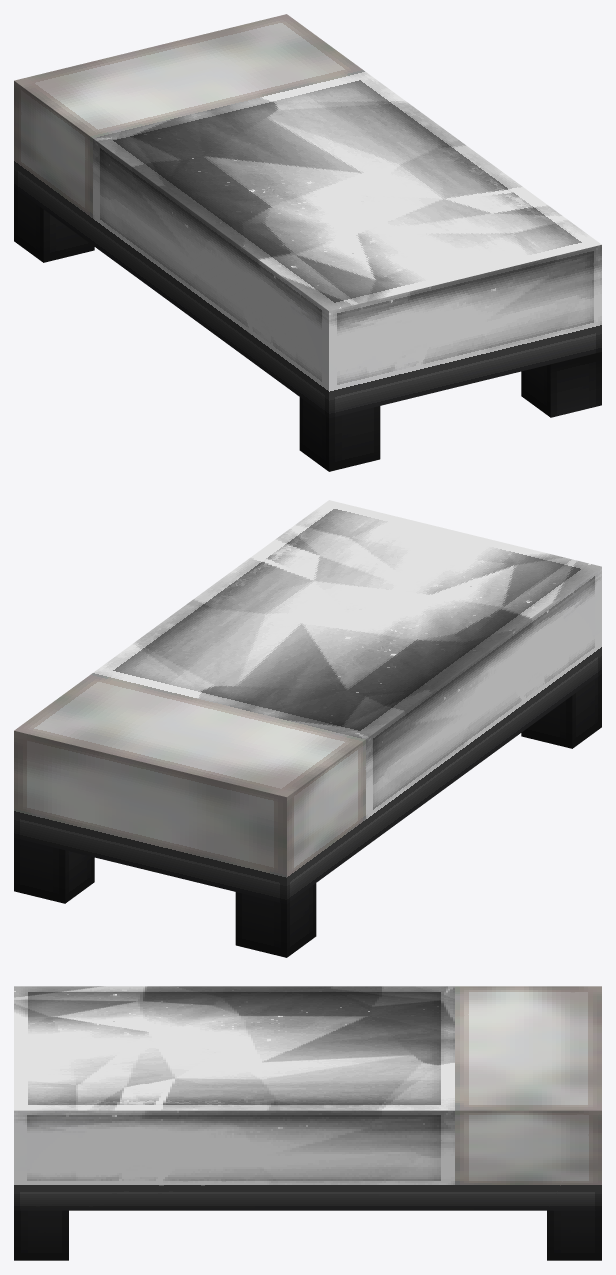
File: White Bed.glb
3 views of the same model, one above another, from view 1: azimuth 30°, elevation 25°; view 2: azimuth 150°, elevation 25°; view 3: azimuth 270°, elevation 25° (orthographic). The views are drawn at different scales.
Parts seen in each view (by area): view 1: Untitled; view 2: Untitled; view 3: Untitled.
Boxes of the visible parts, x1,y1,x2,y2 form: Untitled: (14, 14, 601, 471); Untitled: (14, 500, 601, 957); Untitled: (14, 986, 601, 1260).
Size of the model in its own units: 1.6 by 0.9 by 3.2.
Materials: 1 (1 with a texture image).
